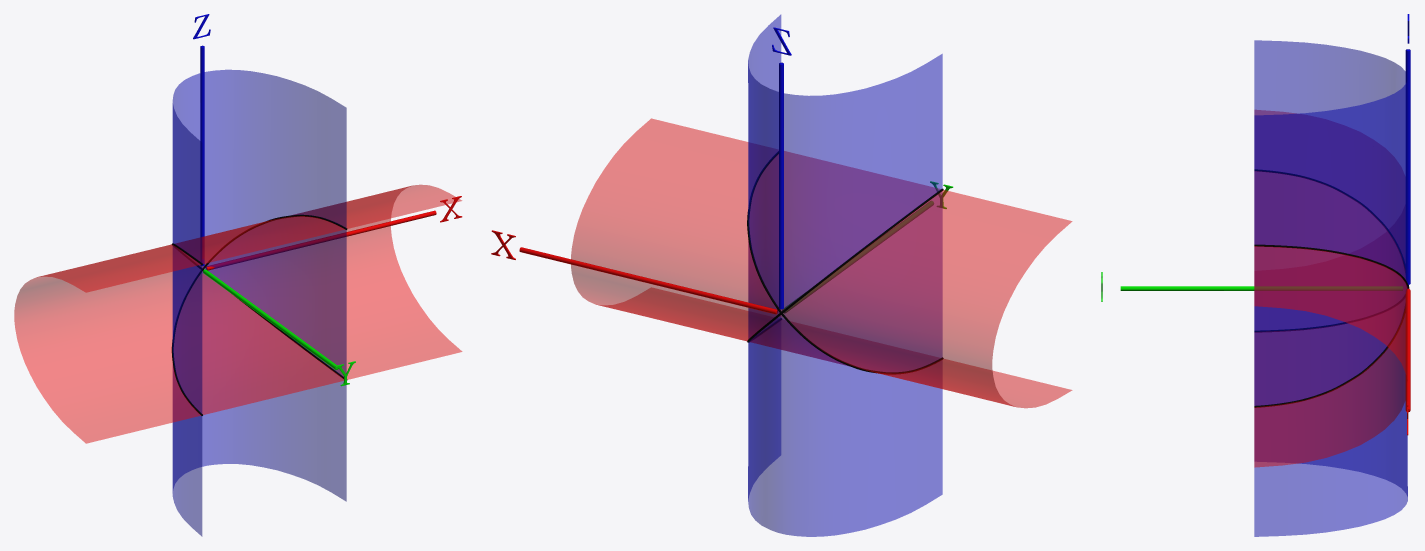
Rendered from Parabola Parabola.fbx.
3 views of the same model, side by side, from view 1: azimuth 30°, elevation 25°; view 2: azimuth 150°, elevation 25°; view 3: azimuth 270°, elevation 25° (orthographic). The views are drawn at different scales.
Parts seen in each view (by area): view 1: parabola_02, parabola_01, default1, Eje_X, Eje_Z, Eje_Y; view 2: parabola_02, parabola_01, default1, Eje_X, Eje_Z, Eje_Y; view 3: parabola_02, parabola_01, default1, Eje_Y, Eje_Z, Eje_X.
Boxes of the visible parts, box(x1,y1,x2,y2) form: parabola_02: box(172, 69, 346, 536); parabola_01: box(14, 184, 462, 443); default1: box(171, 214, 347, 415); Eje_X: box(206, 210, 436, 270); Eje_Z: box(200, 45, 204, 265); Eje_Y: box(203, 269, 338, 369); parabola_02: box(748, 14, 942, 536); parabola_01: box(571, 118, 1072, 408); default1: box(747, 151, 943, 374); Eje_X: box(519, 247, 777, 314); Eje_Z: box(779, 62, 783, 309); Eje_Y: box(782, 201, 933, 313); parabola_02: box(1254, 40, 1407, 536); parabola_01: box(1254, 110, 1407, 467); default1: box(1254, 169, 1409, 407); Eje_Y: box(1120, 286, 1402, 290); Eje_Z: box(1405, 49, 1410, 284); Eje_X: box(1405, 288, 1410, 412).
Bounding box in the file's own units: 272 × 262 × 152.
